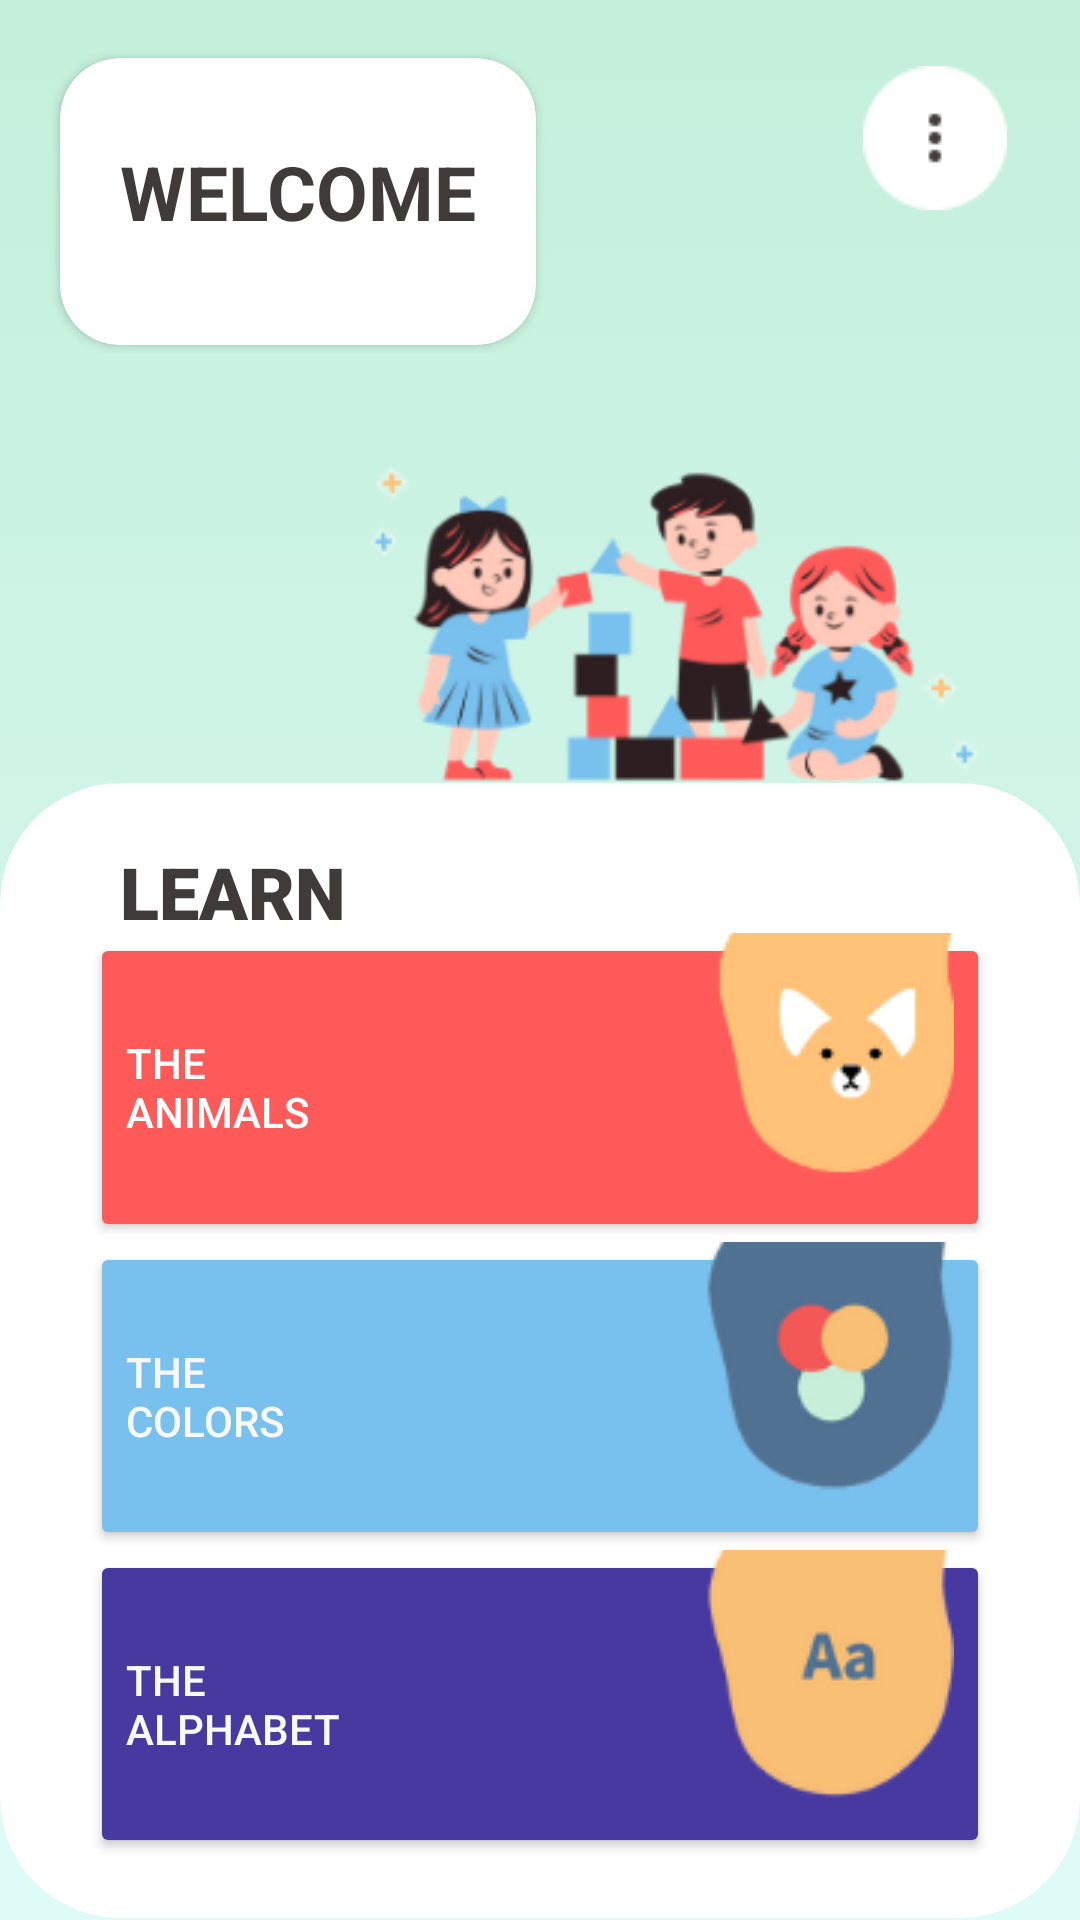

Icon click points for this 1080 × 1920 phone screenshot, format point (x, y):
others button: point (935, 138)
